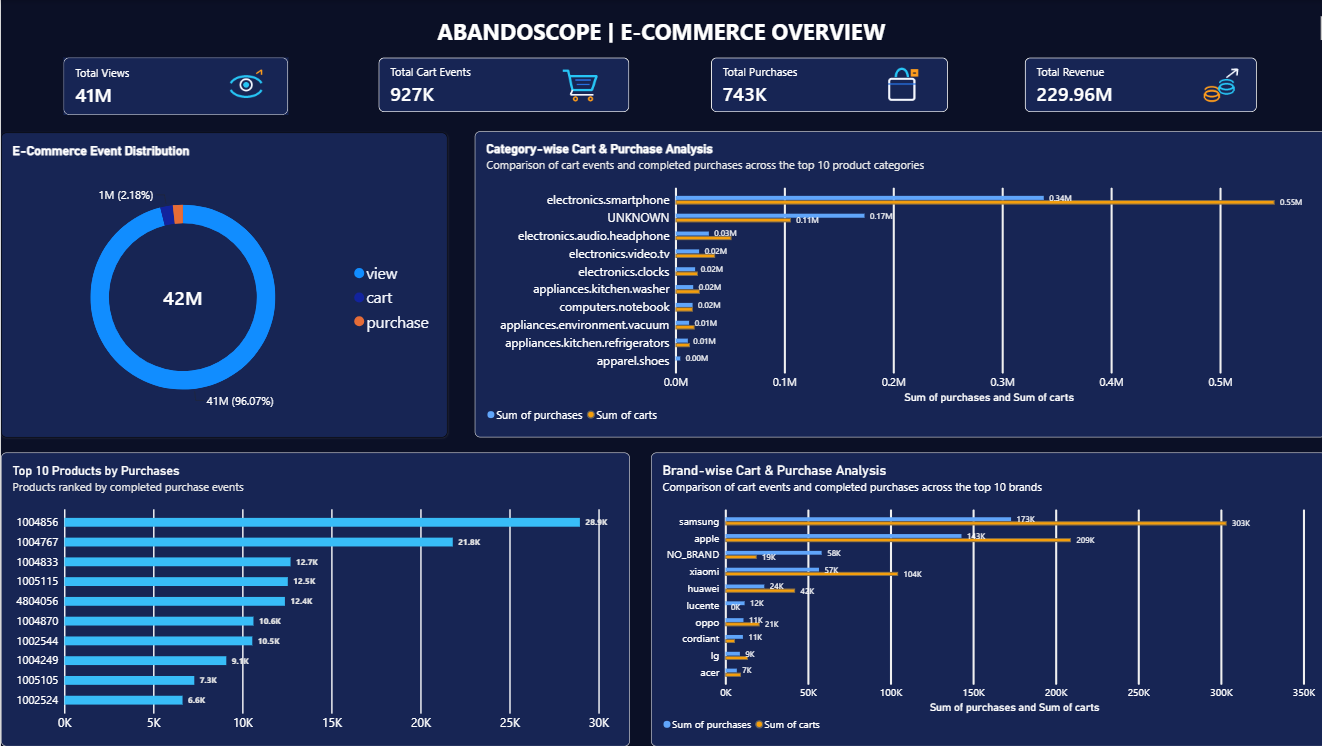

What the dashboard file says about the page in this screenshot:
{"tool":"powerbi","page":{"name":"E-Commerce  Overview","canvas":[1920,1080],"ordinal":0},"visuals":[{"type":"textbox","box":[0,23.5,1920.1,38],"z":0},{"type":"cardVisual","fields":{"Data":["brand_performance.Total Views"]},"box":[90.5,83.2,325.7,83.2],"z":1000},{"type":"cardVisual","fields":{"Data":["brand_performance.Total Cart Events"]},"box":[546.5,83.2,363.7,79.6],"z":2000},{"type":"cardVisual","fields":{"Data":["brand_performance.Total Purchases"]},"box":[1027.9,83.2,343.8,79.6],"z":3000},{"type":"cardVisual","fields":{"Data":["brand_performance.Total Revenue"]},"box":[1482.1,83.2,336.6,79.6],"z":4000},{"type":"donutChart","title":"E-Commerce Event Distribution","fields":{"Category":["event_distribution.event_type"],"Y":["Sum(event_distribution.count)"]},"box":[0,191.8,646,441.6],"z":5000},{"type":"clusteredBarChart","title":"Category-wise Cart & Purchase Analysis","fields":{"Category":["category_performance.category_code"],"Y":["Sum(category_performance.purchases)","Sum(category_performance.carts)"]},"box":[686.2,190.8,1233.8,443.1],"z":6000},{"type":"clusteredBarChart","title":"Brand-wise Cart & Purchase Analysis","fields":{"Category":["brand_performance.brand"],"Y":["Sum(brand_performance.purchases)","Sum(brand_performance.carts)"]},"box":[941.5,655.4,979,425.3],"z":7000},{"type":"clusteredBarChart","title":"Top 10 Products by Purchases","fields":{"Category":["top_products.product_id"],"Y":["Sum(top_products.purchases)"]},"box":[0,655.4,910.3,425.3],"z":8000},{"type":"image","box":[293.2,92.3,123.1,65.1],"z":9000},{"type":"image","box":[787.2,88.7,101.3,67],"z":10000},{"type":"image","box":[1243.2,88.7,121.2,67],"z":11000},{"type":"image","box":[1717.4,92.3,101.3,70.6],"z":12000}]}

Visuals, with their boxes in screenshot pixels (x1, y1, x2, y2), scaled from the page's 1920x1080 canvas onto the 1322x746 screenshot:
textbox: locate(0, 16, 1321, 42)
cardVisual - brand_performance.Total Views: locate(62, 57, 287, 115)
cardVisual - brand_performance.Total Cart Events: locate(376, 57, 627, 112)
cardVisual - brand_performance.Total Purchases: locate(708, 57, 944, 112)
cardVisual - brand_performance.Total Revenue: locate(1020, 57, 1252, 112)
"E-Commerce Event Distribution" donutChart: locate(0, 132, 445, 438)
"Category-wise Cart & Purchase Analysis" clusteredBarChart: locate(472, 132, 1321, 438)
"Brand-wise Cart & Purchase Analysis" clusteredBarChart: locate(648, 453, 1321, 745)
"Top 10 Products by Purchases" clusteredBarChart: locate(0, 453, 627, 745)
image: locate(202, 64, 287, 109)
image: locate(542, 61, 612, 108)
image: locate(856, 61, 939, 108)
image: locate(1183, 64, 1252, 113)
